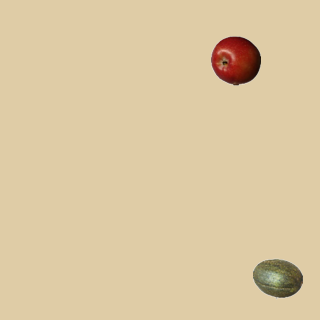Apple Braeburn: (210, 35, 260, 85)
Melon Piel de Sapo: (252, 253, 302, 303)
